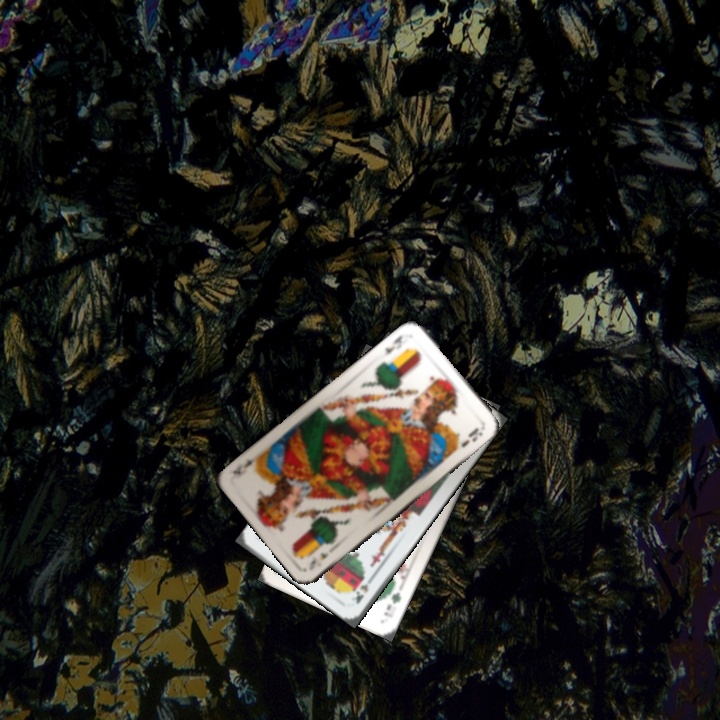EK: (305, 548, 331, 573), (381, 331, 406, 357)
GK: (380, 587, 404, 620)
SK: (351, 572, 377, 606)
